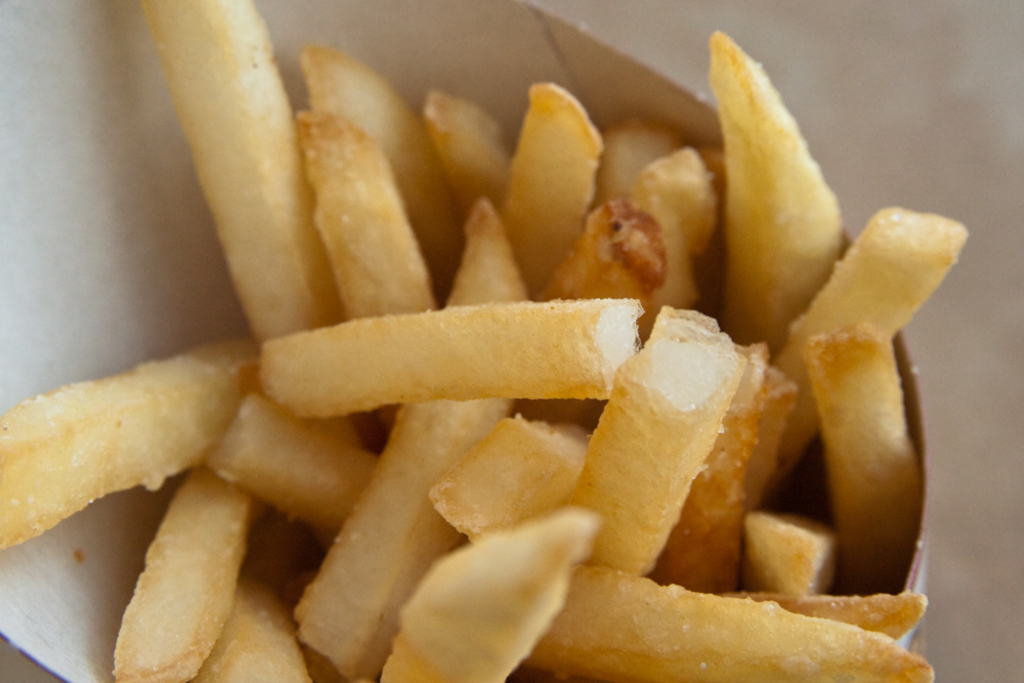French fries: (0, 16, 954, 680)
